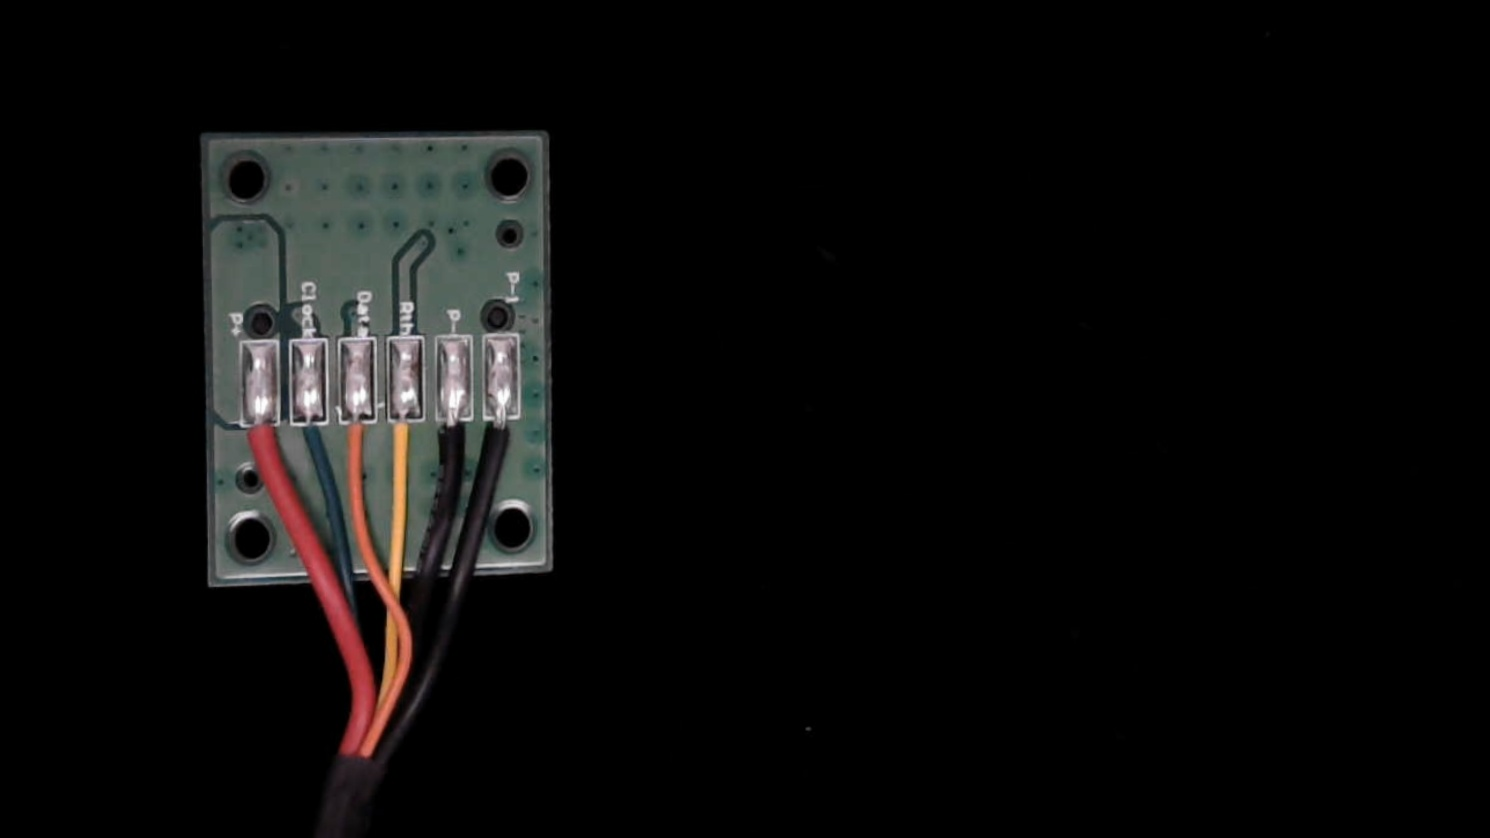Black: (434, 401, 469, 484)
Black1: (482, 400, 520, 479)
Green: (290, 405, 332, 477)
Orange: (340, 402, 377, 481)
Red: (238, 407, 280, 485)
Yellow: (385, 402, 425, 487)
